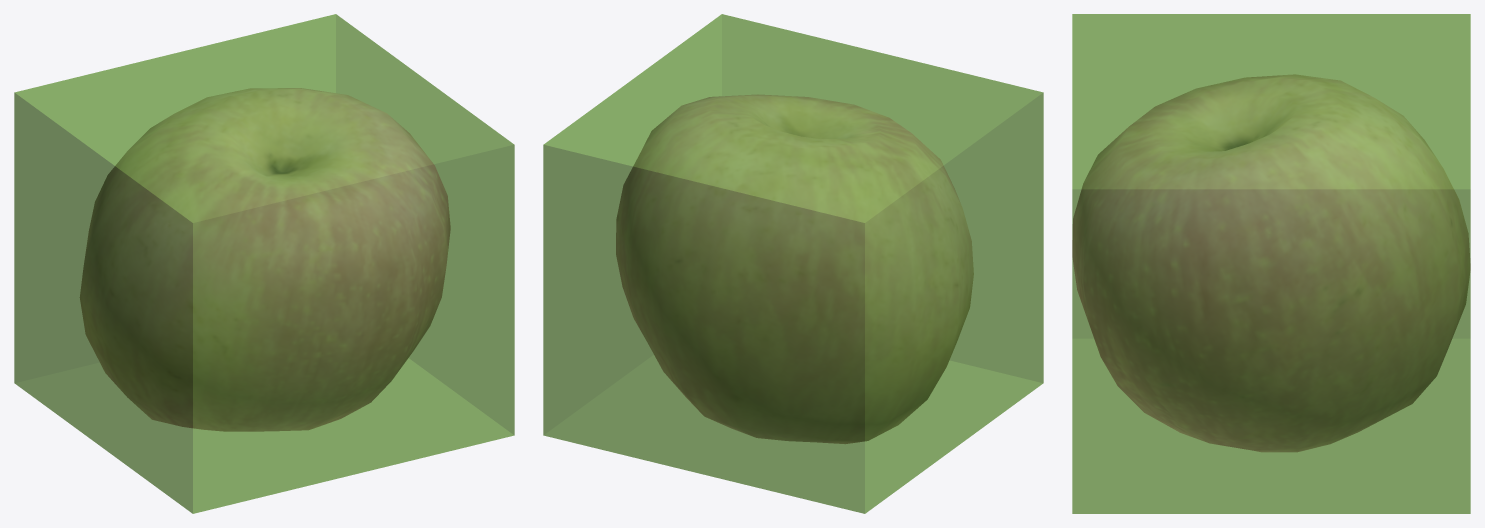
Rendered from pg_AppleRed_04.fbx.
3 views of the same model, side by side, from view 1: azimuth 30°, elevation 25°; view 2: azimuth 150°, elevation 25°; view 3: azimuth 270°, elevation 25° (orthographic). The views are drawn at different scales.
Visible parts, largest first — view 1: pg_AppleRed_04_col, pg_AppleRed_04_LOD0; view 2: pg_AppleRed_04_col, pg_AppleRed_04_LOD0; view 3: pg_AppleRed_04_col, pg_AppleRed_04_LOD0.
Boxes of the visible parts, x1=… form: pg_AppleRed_04_col: x1=14, y1=14, x2=514, y2=513; pg_AppleRed_04_LOD0: x1=79, y1=88, x2=450, y2=431; pg_AppleRed_04_col: x1=543, y1=14, x2=1043, y2=513; pg_AppleRed_04_LOD0: x1=616, y1=94, x2=973, y2=443; pg_AppleRed_04_col: x1=1072, y1=14, x2=1470, y2=513; pg_AppleRed_04_LOD0: x1=1072, y1=74, x2=1470, y2=452.
Size of what is drawn, in the model's own units: 7.96 by 6.88 by 7.66.
